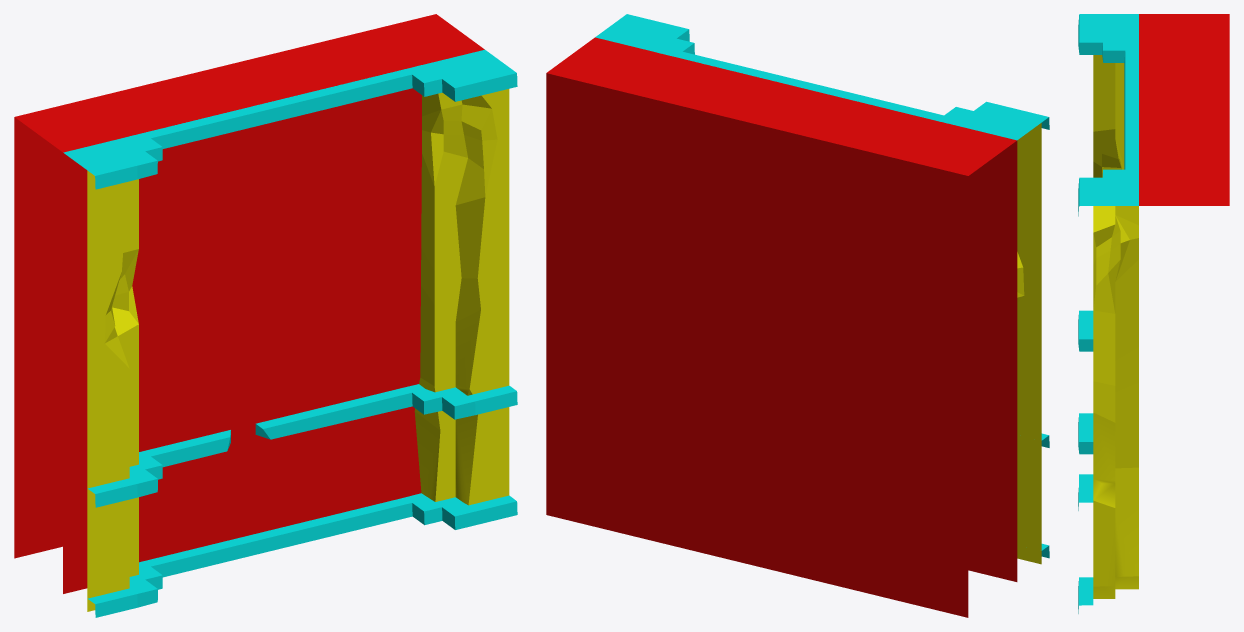
The model's file is WallA1.fbx.
3 renders of one model, left to right at view 1: azimuth 30°, elevation 25°; view 2: azimuth 150°, elevation 25°; view 3: azimuth 270°, elevation 25°, orthographic. The views are drawn at different scales.
Parts seen in each view (by area): view 1: mur_pillier_detruit45; view 2: mur_pillier_detruit45; view 3: mur_pillier_detruit45.
Part boxes in pixels (x1,y1,x2,y2): mur_pillier_detruit45: (14, 14, 517, 617); mur_pillier_detruit45: (546, 14, 1049, 617); mur_pillier_detruit45: (1078, 14, 1229, 613).
Size of the model in its own units: 5 by 5 by 1.67.
